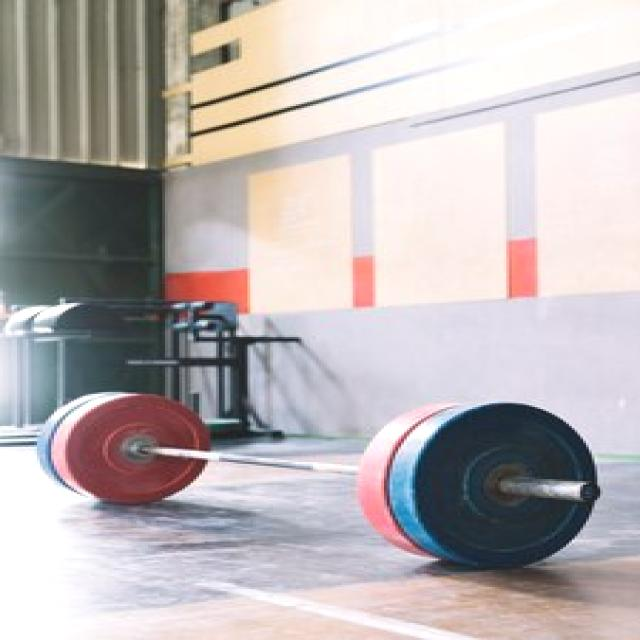barbell_plate_side: (34, 390, 176, 568), (458, 390, 600, 568)
